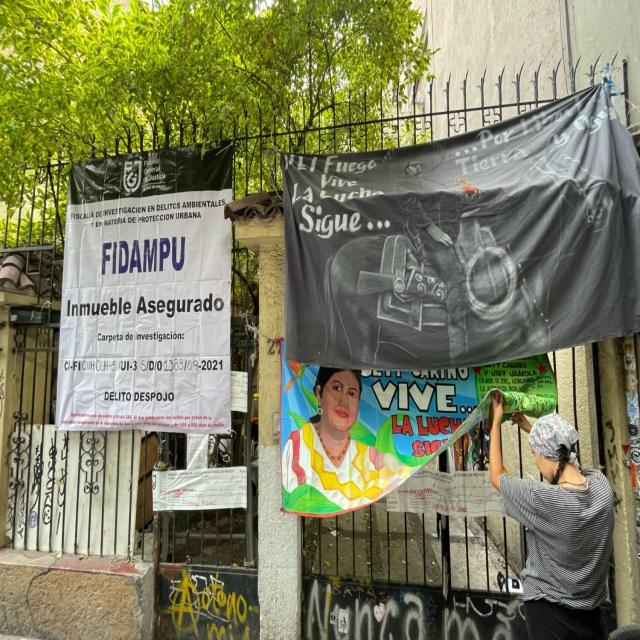stamps: (59, 150, 232, 432)
